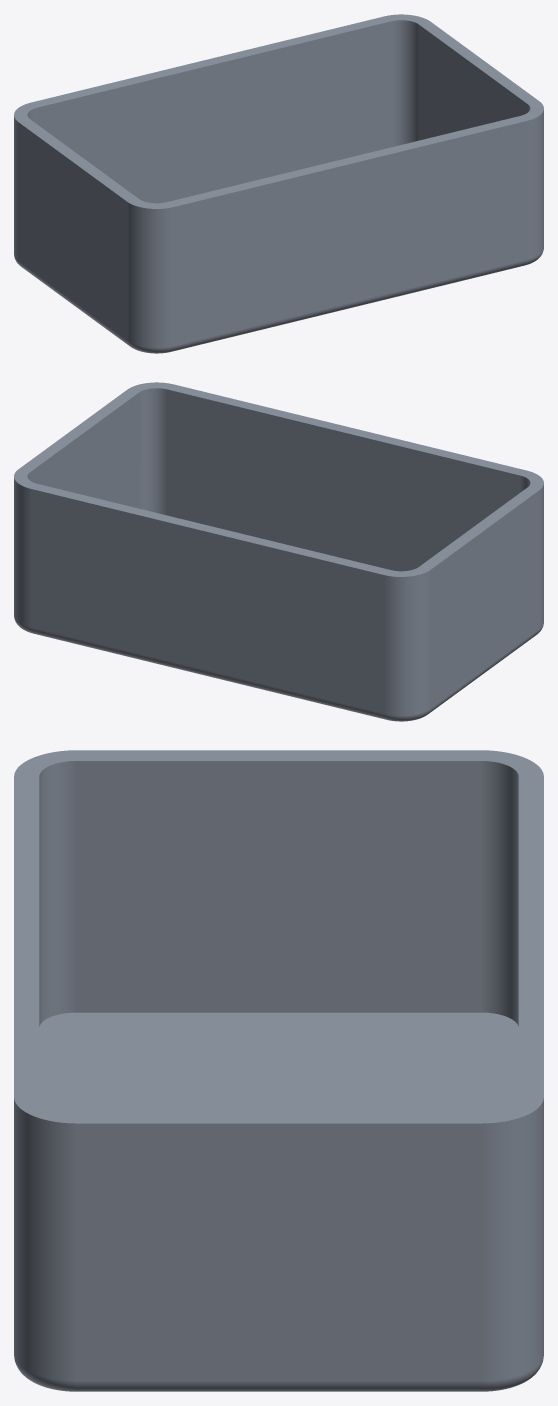
File: step-1-preview-1.glb
3 renders of one model, top to bottom at view 1: azimuth 30°, elevation 25°; view 2: azimuth 150°, elevation 25°; view 3: azimuth 270°, elevation 25°, orthographic. The views are drawn at different scales.
Parts seen in each view (by area): view 1: preview_6, preview_19, preview_0, preview_3, preview_17, preview_1, preview_18, preview_10, preview_21, preview_4, preview_2; view 2: preview_9, preview_15, preview_0, preview_3, preview_17, preview_4, preview_16, preview_11, preview_22, preview_1, preview_2; view 3: preview_12, preview_13, preview_26, preview_3, preview_10, preview_11, preview_14, preview_20, preview_25.
Part boxes in pixels (x1,y1,x2,y2): preview_6: [173, 121, 526, 345]; preview_19: [37, 21, 390, 203]; preview_0: [18, 122, 127, 339]; preview_3: [14, 14, 543, 208]; preview_17: [419, 25, 527, 140]; preview_1: [127, 202, 173, 347]; preview_18: [391, 20, 418, 147]; preview_10: [527, 110, 543, 259]; preview_21: [172, 259, 526, 351]; preview_4: [14, 116, 18, 260]; preview_2: [18, 261, 128, 345]; preview_9: [31, 489, 384, 713]; preview_15: [167, 389, 520, 571]; preview_0: [430, 490, 539, 707]; preview_3: [14, 382, 543, 576]; preview_17: [30, 393, 138, 508]; preview_4: [384, 570, 430, 715]; preview_16: [139, 388, 166, 515]; preview_11: [14, 478, 30, 627]; preview_22: [31, 627, 385, 719]; preview_1: [539, 484, 543, 628]; preview_2: [429, 629, 539, 713]; preview_12: [77, 1123, 480, 1380]; preview_13: [77, 761, 480, 1012]; preview_26: [39, 1012, 518, 1112]; preview_3: [14, 750, 543, 1123]; preview_10: [14, 1098, 76, 1380]; preview_11: [481, 1098, 543, 1380]; preview_14: [39, 761, 76, 1026]; preview_20: [481, 761, 518, 1026]; preview_25: [77, 1381, 480, 1391].
Size of the model in its own units: 0.07 by 0.024 by 0.042.
